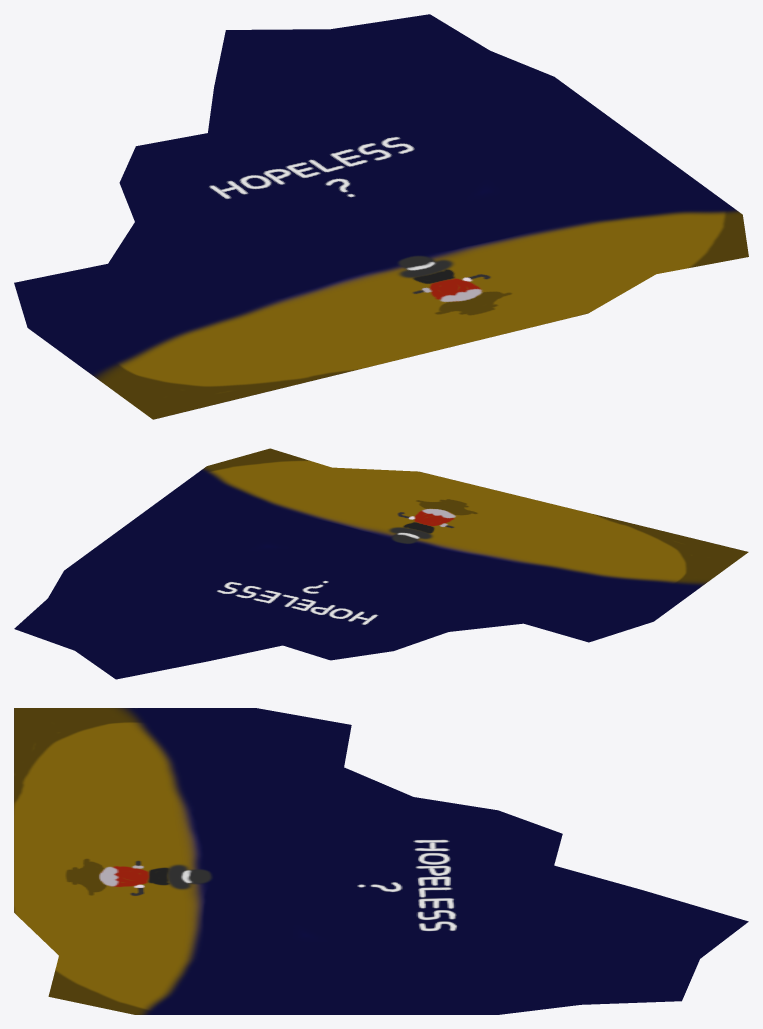
Rendered from Poster_3.fbx.
3 views of the same model, one above another, from view 1: azimuth 30°, elevation 25°; view 2: azimuth 150°, elevation 25°; view 3: azimuth 270°, elevation 25° (orthographic). The views are drawn at different scales.
Parts seen in each view (by area): view 1: Plane; view 2: Plane; view 3: Plane.
Boxes of the visible parts, x1,y1,x2,y2 form: Plane: (14,14,748,419); Plane: (14,448,748,679); Plane: (14,708,748,1014).
Bounding box in the file's own units: 2 × 3.3e-07 × 2.02.
1 material, 1 textured.
